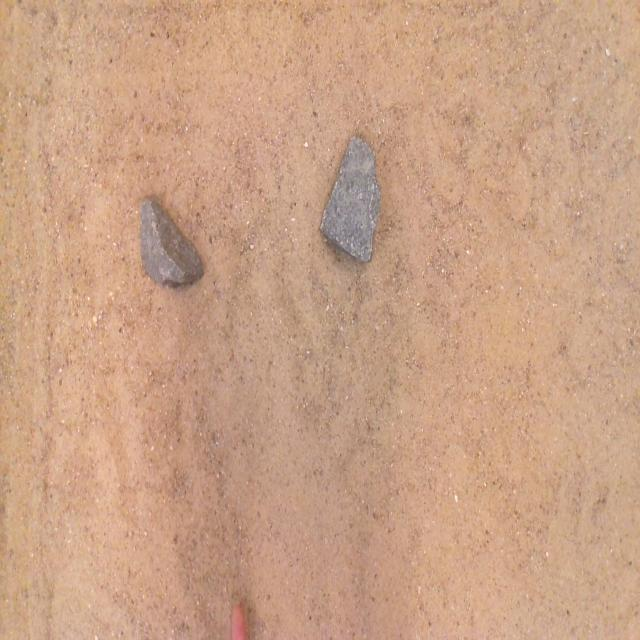rock: (320, 136, 380, 261), (140, 199, 203, 284)
